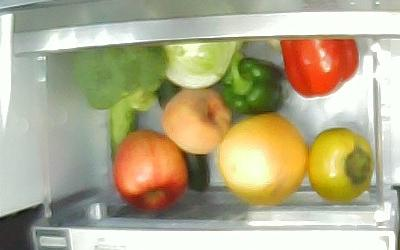apple: (112, 129, 189, 213)
broccoli: (70, 45, 169, 111)
cucumber: (155, 77, 211, 192), (109, 99, 139, 165)
grapefruit: (218, 114, 308, 205)
lettuce: (162, 40, 241, 90)
paprika: (281, 37, 360, 98), (219, 50, 283, 116)
peach: (161, 87, 231, 154)
persimmon: (307, 127, 372, 203)
